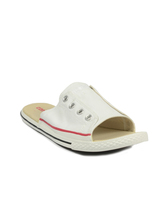shoes: (19, 84, 152, 159)
